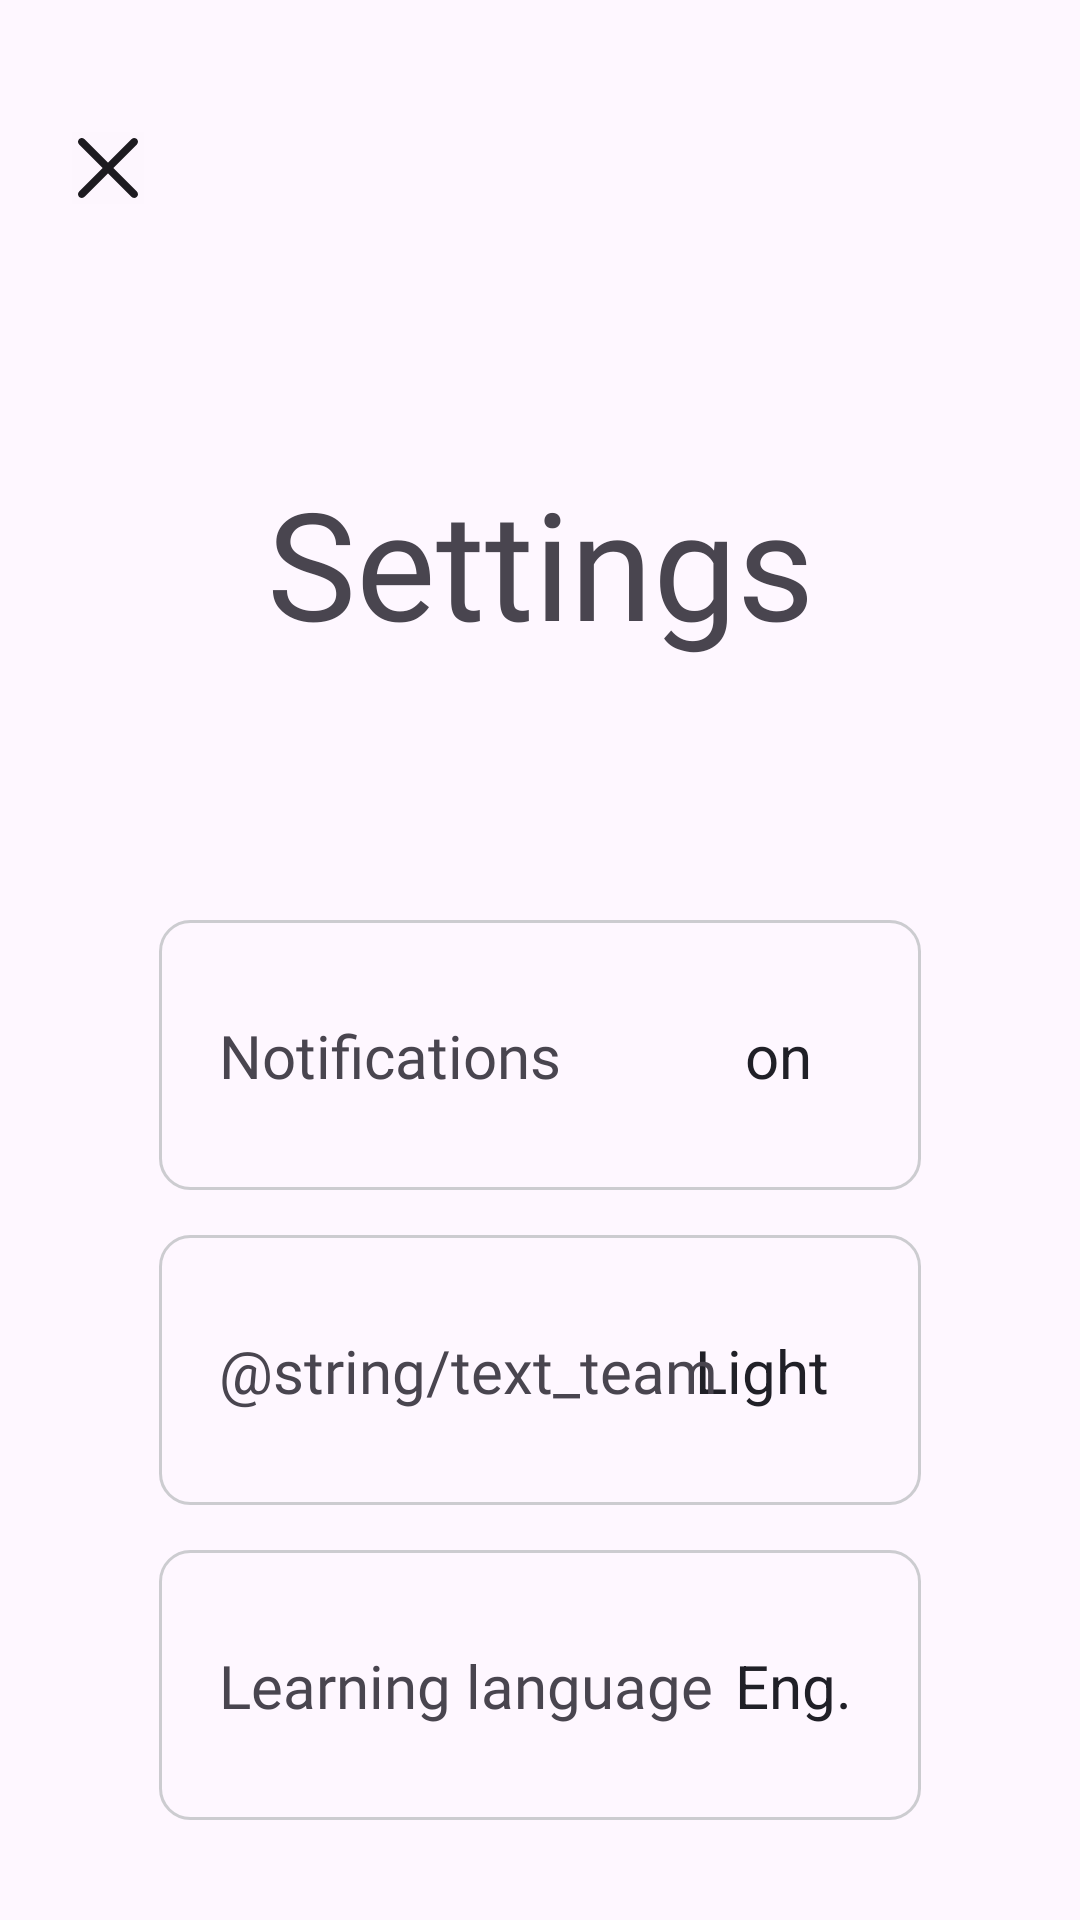

Where to tap for icons on this 1080x1920 app screen, as [x,y]:
close imege button: [108,168]
